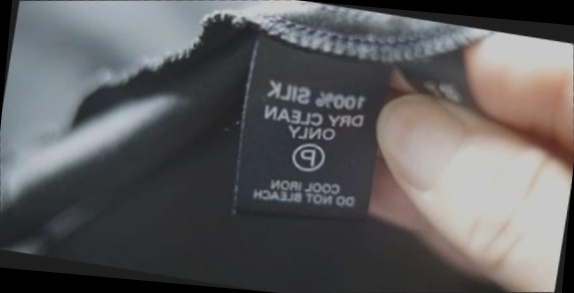dry_clean_any_solvent_except_trichloroethylene: (285, 135, 330, 177)
